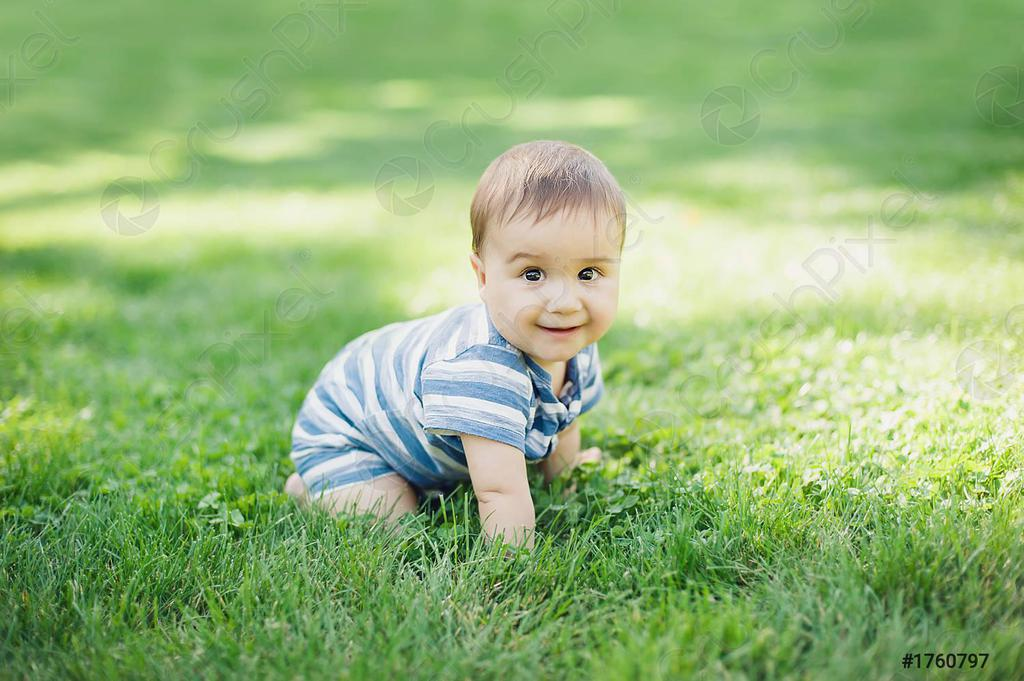child: (264, 137, 629, 573)
